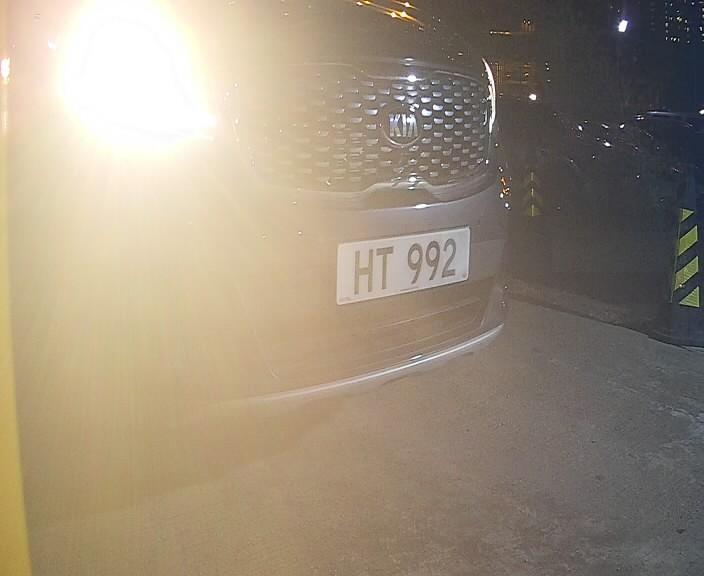Car: (35, 1, 582, 461)
License Plate: (317, 211, 490, 324)
